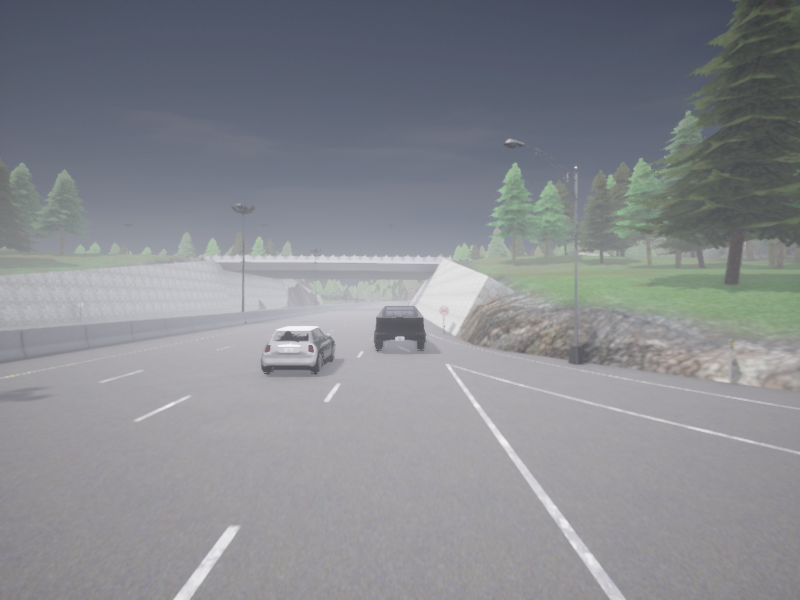vehicle: (261, 326, 334, 373), (373, 306, 425, 350)
